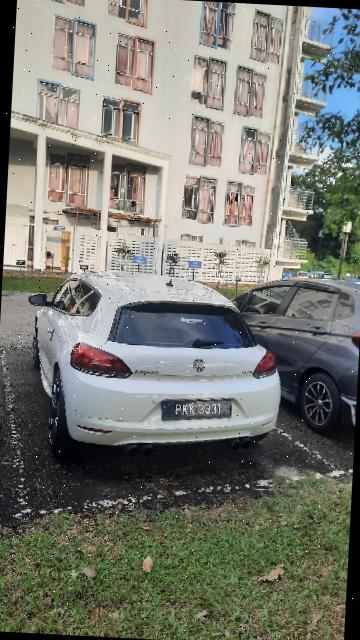License_Plate: (155, 392, 246, 428)
car: (22, 264, 290, 463), (221, 273, 360, 438)
